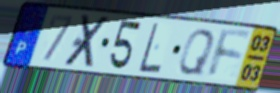5: (108, 18, 143, 71)
7: (42, 13, 75, 64)
F: (205, 27, 253, 81)
L: (137, 21, 164, 75)
Q: (176, 28, 217, 77)
X: (61, 13, 113, 69)
